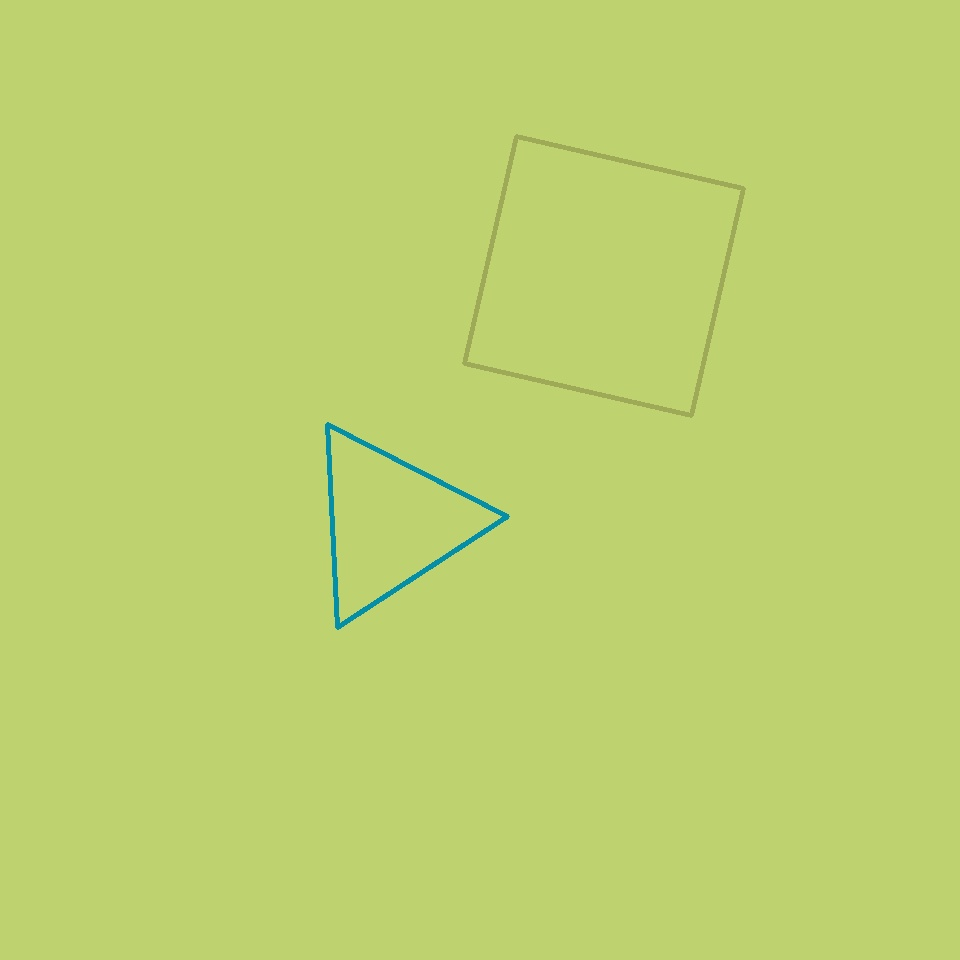circle: (301, 422, 481, 624)
square: (464, 136, 744, 416)
